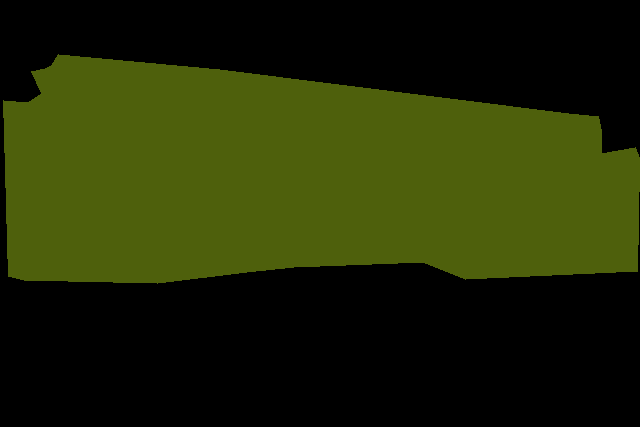Train: (3, 54, 639, 283)
